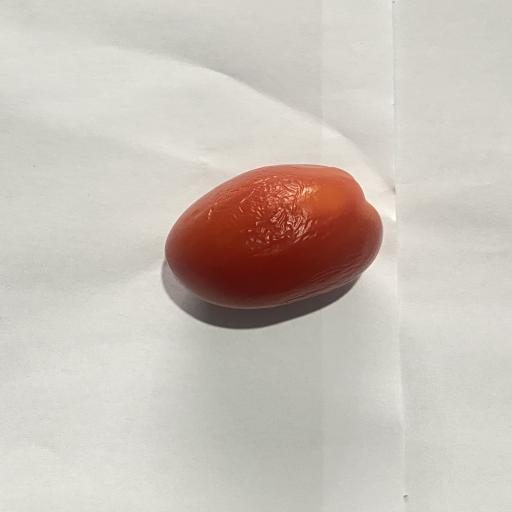spoiled: (165, 164, 383, 309)
